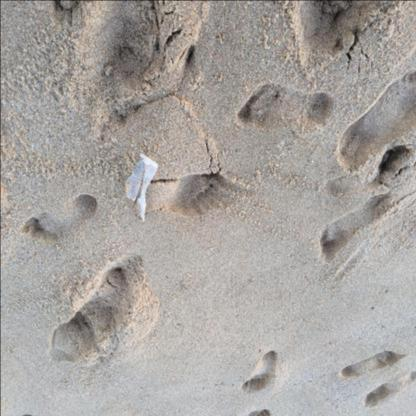Other plastic: (125, 153, 158, 220)
